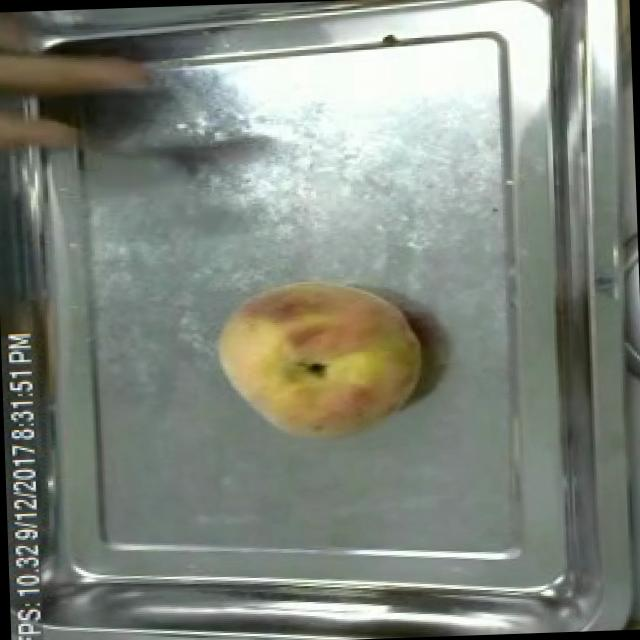Fruit: (210, 268, 433, 450)
